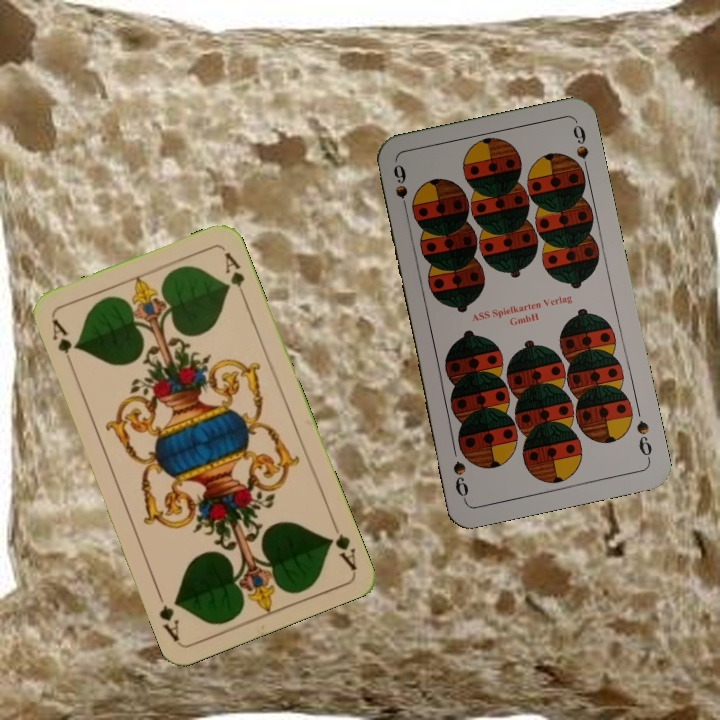GA: (324, 516, 360, 572), (48, 314, 78, 371)
S9: (389, 160, 412, 219), (632, 417, 655, 463)
